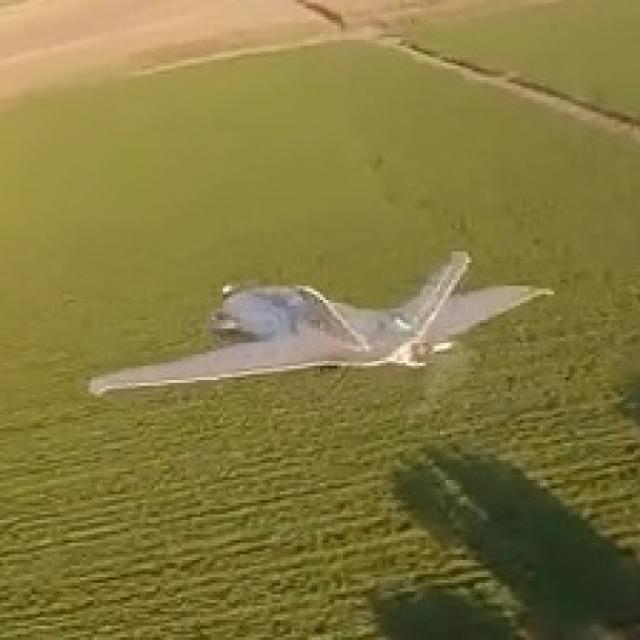iha: (89, 243, 554, 400)
